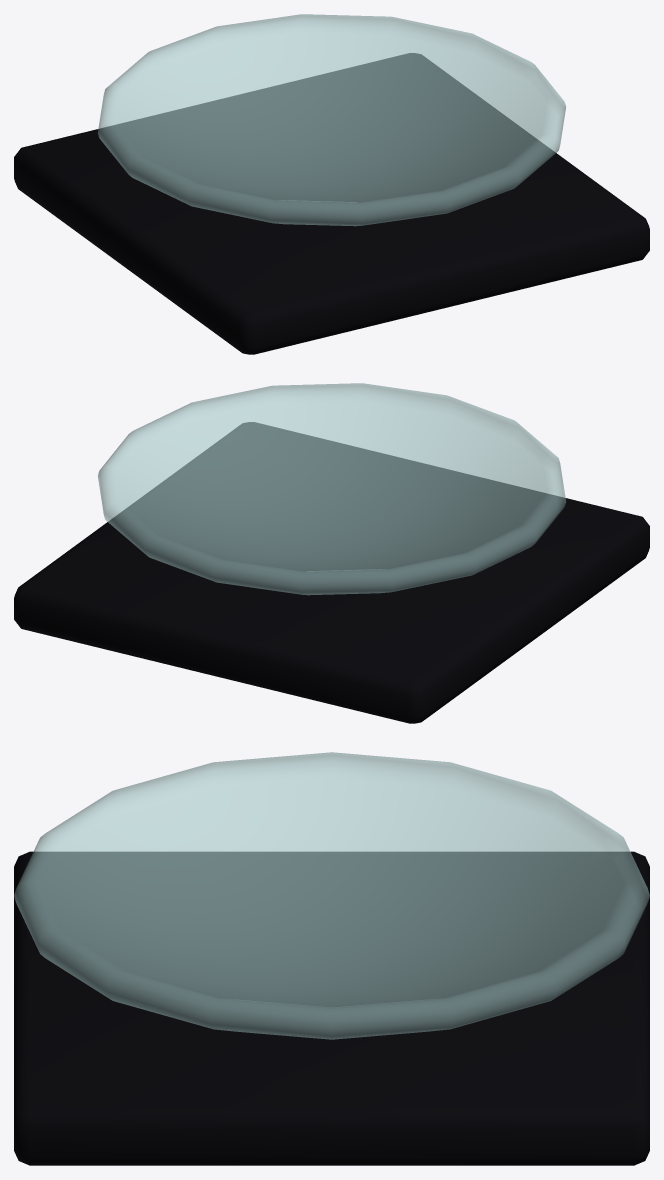
Rendered from LastLuna_Model_Station_Dryer.fbx.
3 views of the same model, one above another, from view 1: azimuth 30°, elevation 25°; view 2: azimuth 150°, elevation 25°; view 3: azimuth 270°, elevation 25° (orthographic). The views are drawn at different scales.
Visible parts, largest first — view 1: Stand_Base_Small001, Watch_Glass001; view 2: Stand_Base_Small001, Watch_Glass001; view 3: Stand_Base_Small001, Watch_Glass001.
Part boxes in pixels (x1,y1,x2,y2): Stand_Base_Small001: [14, 53, 649, 354]; Watch_Glass001: [98, 14, 565, 226]; Stand_Base_Small001: [14, 422, 649, 723]; Watch_Glass001: [98, 383, 565, 595]; Stand_Base_Small001: [14, 851, 649, 1165]; Watch_Glass001: [14, 752, 649, 1039].
Bounding box in the file's own units: 100 × 27.08 × 100.
